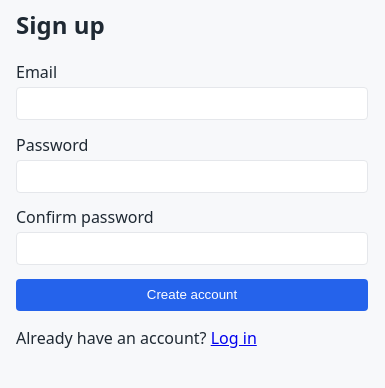
Test: SignupPage › maps a 409 EMAIL_TAKEN to an email field error (MSW)
Type "alice@example.com" into the field labelled "Email" at [192, 103], box [16,87,368,120]
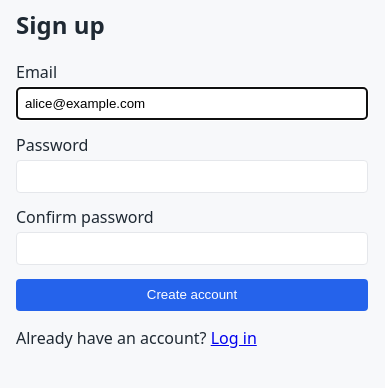
Type "password1" into the password field labelled "Password" at [192, 176], box [16,160,368,192]
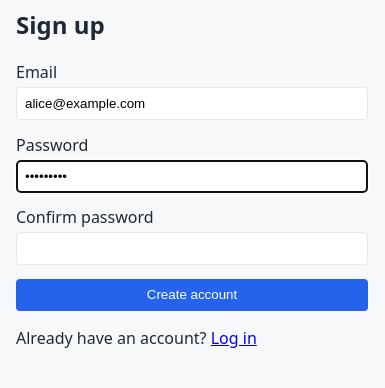
Type "password1" into the password field labelled "Confirm password" at [192, 249], box [16,232,368,265]
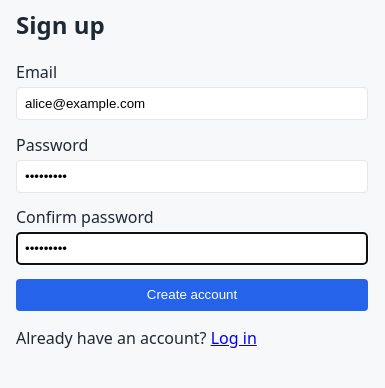
Click the button "Create account" at [192, 295], box [16,279,368,311]
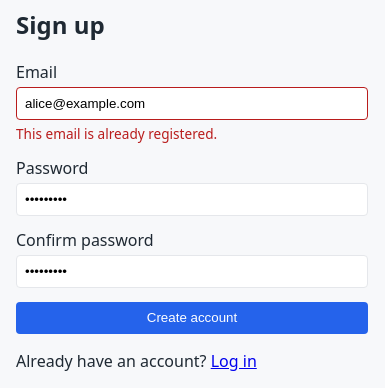
expect the text "This email is already registered." is shown: met, box [16,124,217,143]
